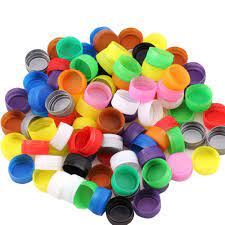PlasticCap: (142, 160, 170, 188), (192, 147, 219, 175), (135, 189, 159, 217), (10, 154, 34, 180), (108, 202, 134, 223)
